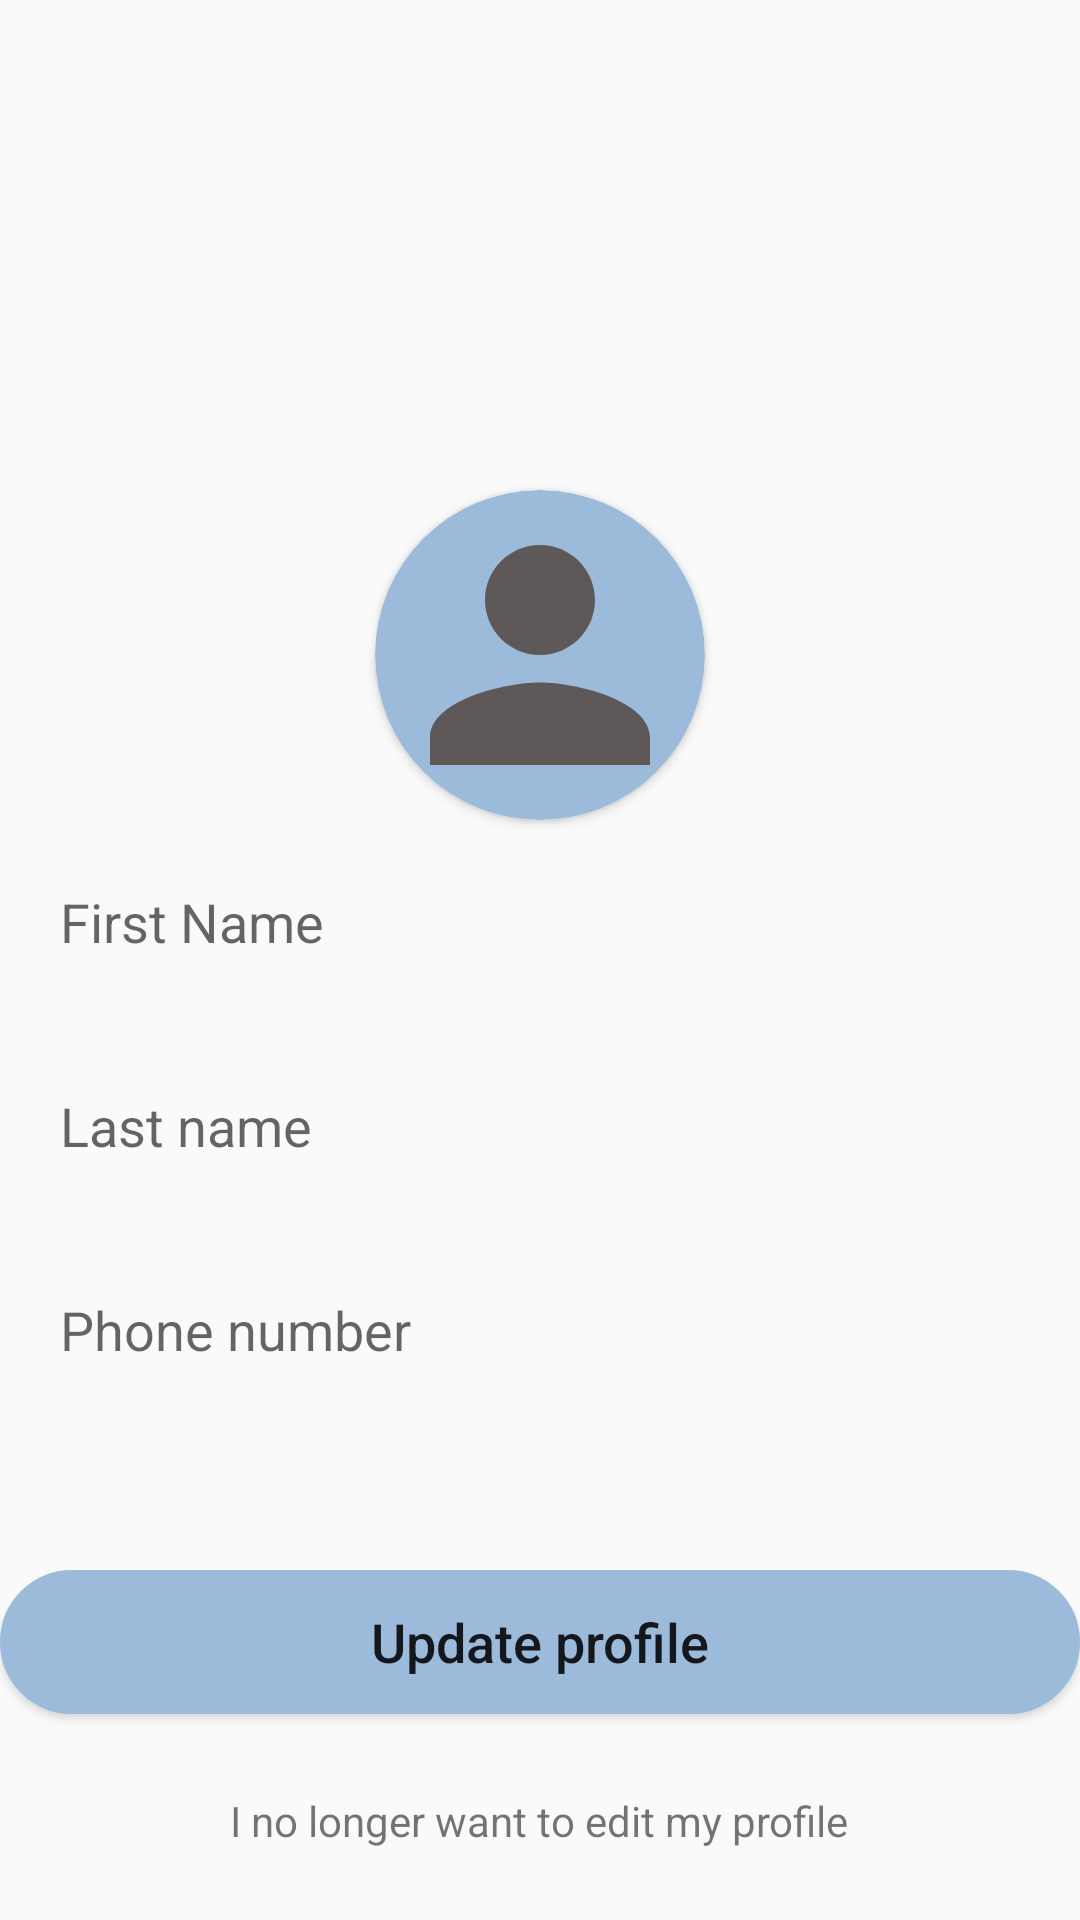

Icons on this 1080 × 1920 Android screen, each with the point to tap as point (x, y):
person: point (540, 655)
